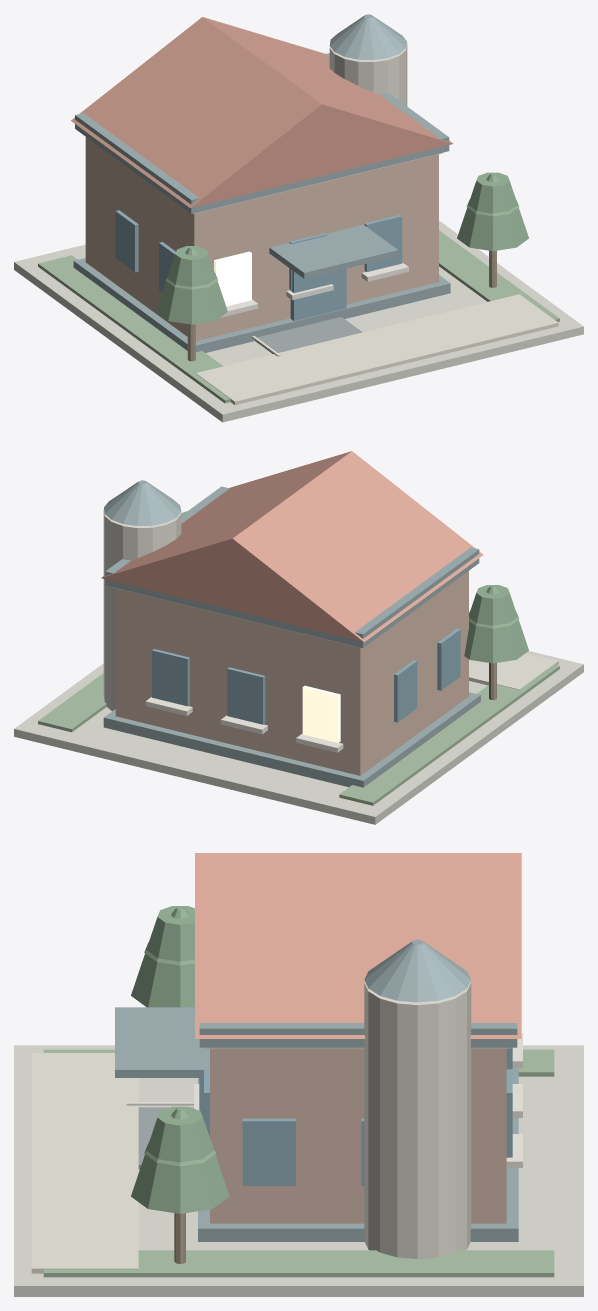
Rendered from remaster_industry_mill_0.glb.
3 views of the same model, one above another, from view 1: azimuth 30°, elevation 25°; view 2: azimuth 150°, elevation 25°; view 3: azimuth 270°, elevation 25° (orthographic). The views are drawn at different scales.
Visible parts, largest first — view 1: remaster_industry_mill_0 red, remaster_industry_mill_0 brick, remaster_industry_mill_0 cream, remaster_industry_mill_0 roof, remaster_industry_mill_0 stone, remaster_industry_mill_0 leaf, remaster_industry_mill_0 green, remaster_industry_mill_0 glass, remaster_industry_mill_0 asphalt, remaster_industry_mill_0 warm, remaster_industry_mill_0 white, remaster_industry_mill_0 bark; view 2: remaster_industry_mill_0 red, remaster_industry_mill_0 brick, remaster_industry_mill_0 stone, remaster_industry_mill_0 roof, remaster_industry_mill_0 green, remaster_industry_mill_0 glass, remaster_industry_mill_0 cream, remaster_industry_mill_0 leaf, remaster_industry_mill_0 warm, remaster_industry_mill_0 white; view 3: remaster_industry_mill_0 cream, remaster_industry_mill_0 red, remaster_industry_mill_0 stone, remaster_industry_mill_0 brick, remaster_industry_mill_0 roof, remaster_industry_mill_0 green, remaster_industry_mill_0 leaf, remaster_industry_mill_0 glass, remaster_industry_mill_0 white, remaster_industry_mill_0 asphalt, remaster_industry_mill_0 bark.
Boxes of the visible parts, bbox=[...] form: remaster_industry_mill_0 red: bbox=[71, 17, 453, 207]; remaster_industry_mill_0 brick: bbox=[85, 137, 438, 341]; remaster_industry_mill_0 cream: bbox=[195, 44, 558, 405]; remaster_industry_mill_0 roof: bbox=[73, 14, 450, 352]; remaster_industry_mill_0 stone: bbox=[14, 152, 583, 422]; remaster_industry_mill_0 leaf: bbox=[156, 172, 528, 324]; remaster_industry_mill_0 green: bbox=[38, 230, 559, 403]; remaster_industry_mill_0 glass: bbox=[115, 210, 402, 320]; remaster_industry_mill_0 asphalt: bbox=[255, 317, 362, 354]; remaster_industry_mill_0 warm: bbox=[214, 251, 251, 306]; remaster_industry_mill_0 white: bbox=[220, 263, 408, 356]; remaster_industry_mill_0 bark: bbox=[187, 250, 496, 361]; remaster_industry_mill_0 red: bbox=[101, 451, 483, 642]; remaster_industry_mill_0 brick: bbox=[115, 571, 468, 775]; remaster_industry_mill_0 stone: bbox=[14, 587, 583, 824]; remaster_industry_mill_0 roof: bbox=[103, 480, 480, 787]; remaster_industry_mill_0 green: bbox=[38, 664, 559, 805]; remaster_industry_mill_0 glass: bbox=[152, 628, 460, 724]; remaster_industry_mill_0 cream: bbox=[103, 510, 558, 710]; remaster_industry_mill_0 leaf: bbox=[181, 511, 528, 663]; remaster_industry_mill_0 warm: bbox=[302, 685, 340, 742]; remaster_industry_mill_0 white: bbox=[145, 697, 343, 752]; remaster_industry_mill_0 cream: bbox=[31, 981, 471, 1273]; remaster_industry_mill_0 red: bbox=[195, 853, 521, 1038]; remaster_industry_mill_0 stone: bbox=[14, 1045, 583, 1296]; remaster_industry_mill_0 brick: bbox=[210, 1048, 506, 1223]; remaster_industry_mill_0 roof: bbox=[115, 939, 518, 1241]; remaster_industry_mill_0 green: bbox=[43, 1049, 554, 1277]; remaster_industry_mill_0 leaf: bbox=[131, 906, 229, 1213]; remaster_industry_mill_0 glass: bbox=[199, 1047, 512, 1185]; remaster_industry_mill_0 white: bbox=[126, 1033, 522, 1167]; remaster_industry_mill_0 asphalt: bbox=[138, 1107, 193, 1169]; remaster_industry_mill_0 bark: bbox=[174, 1213, 185, 1263].
Bounding box in the file's own units: 9.64 × 5.82 × 9.6.
